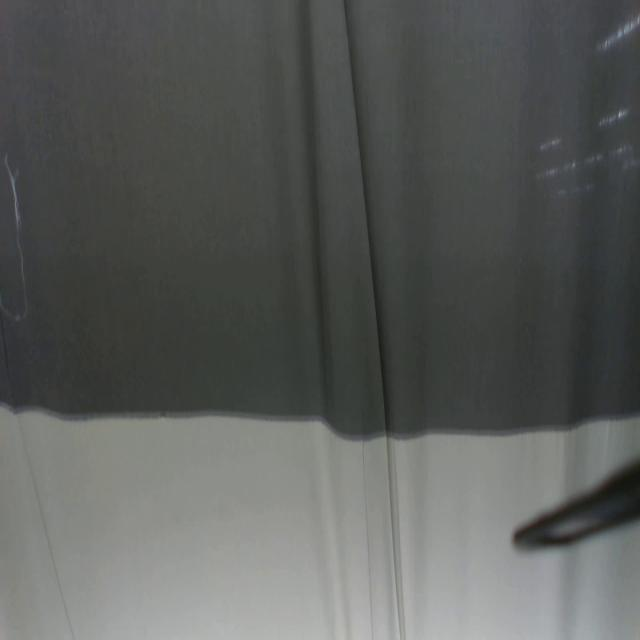crease: (341, 0, 409, 636), (1, 330, 76, 638)
